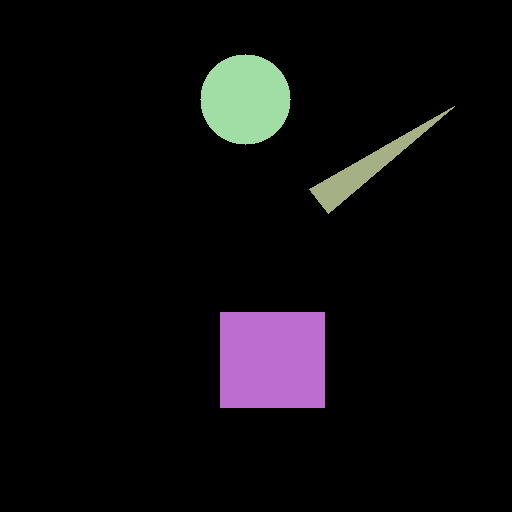circle: (200, 54, 290, 144)
square: (220, 312, 324, 407)
triangle: (309, 106, 454, 213)
